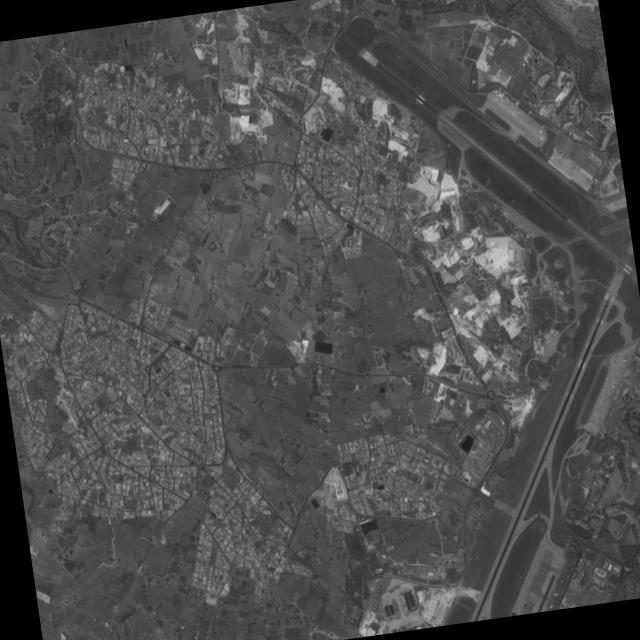plane: (493, 86, 508, 105), (554, 147, 567, 163), (498, 208, 509, 220), (618, 355, 629, 367), (550, 590, 560, 600), (611, 198, 619, 208), (546, 602, 554, 611), (491, 88, 499, 96), (503, 96, 510, 105), (604, 394, 611, 403), (514, 110, 521, 118), (537, 135, 544, 142), (537, 129, 543, 136), (402, 582, 408, 589), (397, 583, 403, 590), (392, 587, 398, 593), (610, 384, 615, 390), (397, 627, 403, 632), (621, 197, 625, 202), (411, 619, 415, 623), (413, 623, 416, 627), (414, 618, 417, 622)
